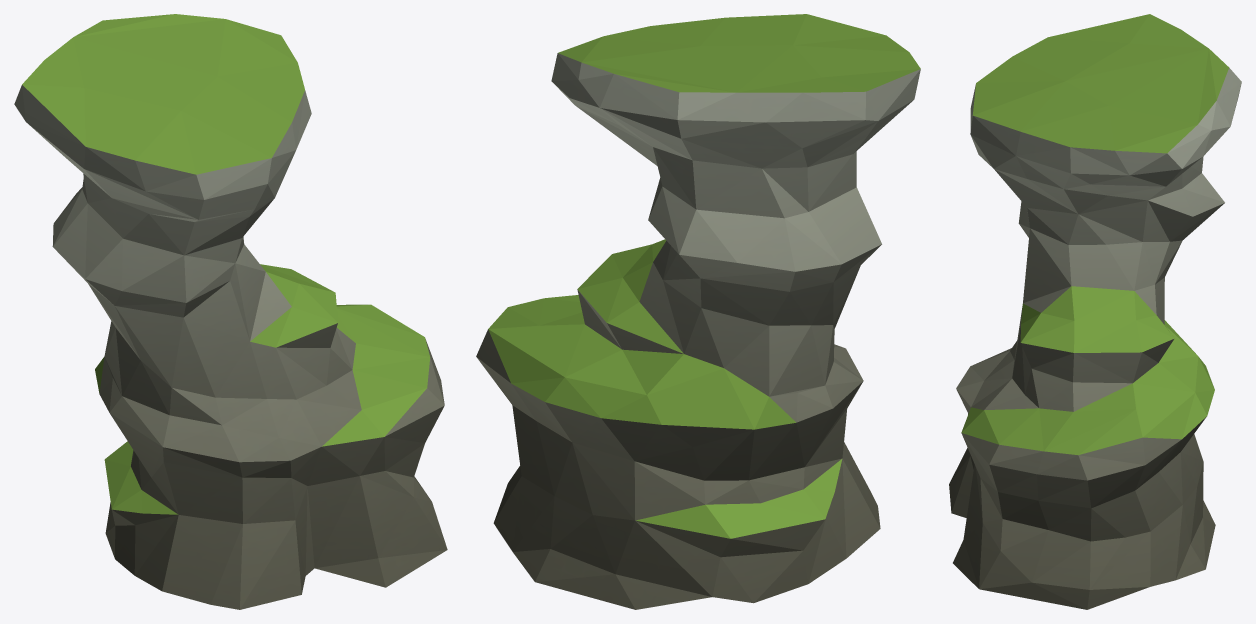
The model's file is ZLP_Rock_D_11.FBX.
3 views of the same model, side by side, from view 1: azimuth 30°, elevation 25°; view 2: azimuth 150°, elevation 25°; view 3: azimuth 270°, elevation 25° (orthographic). The views are drawn at different scales.
Parts seen in each view (by area): view 1: ZLP_Rock_D_11; view 2: ZLP_Rock_D_11; view 3: ZLP_Rock_D_11.
Part boxes in pixels (<box>): ZLP_Rock_D_11: <box>14,14,447,609</box>; ZLP_Rock_D_11: <box>476,14,920,609</box>; ZLP_Rock_D_11: <box>949,14,1241,609</box>.
Size of the model in its own units: 162 by 201 by 121.
